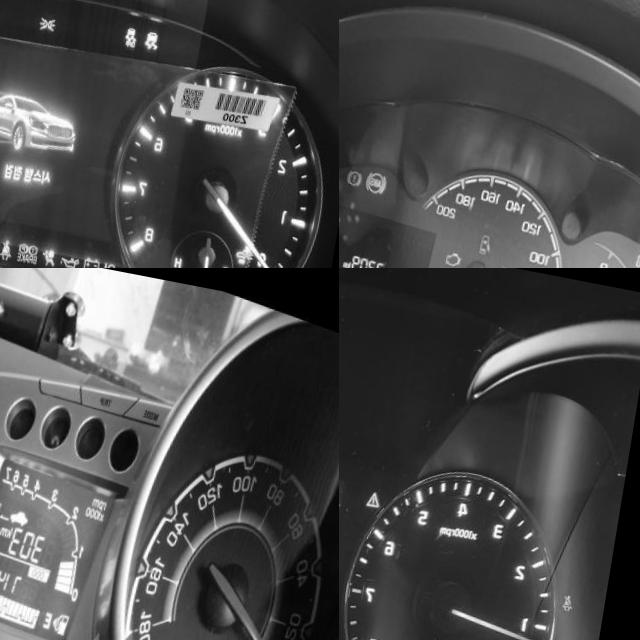Doors: (488, 220, 503, 243)
SideLamp: (48, 2, 65, 19)
